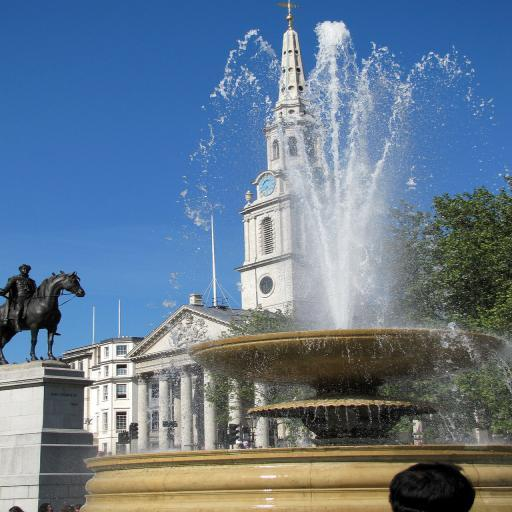horse: (0, 268, 86, 365)
